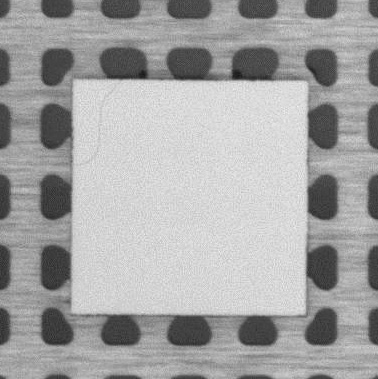DIE_CRACK: (73, 82, 121, 167)
